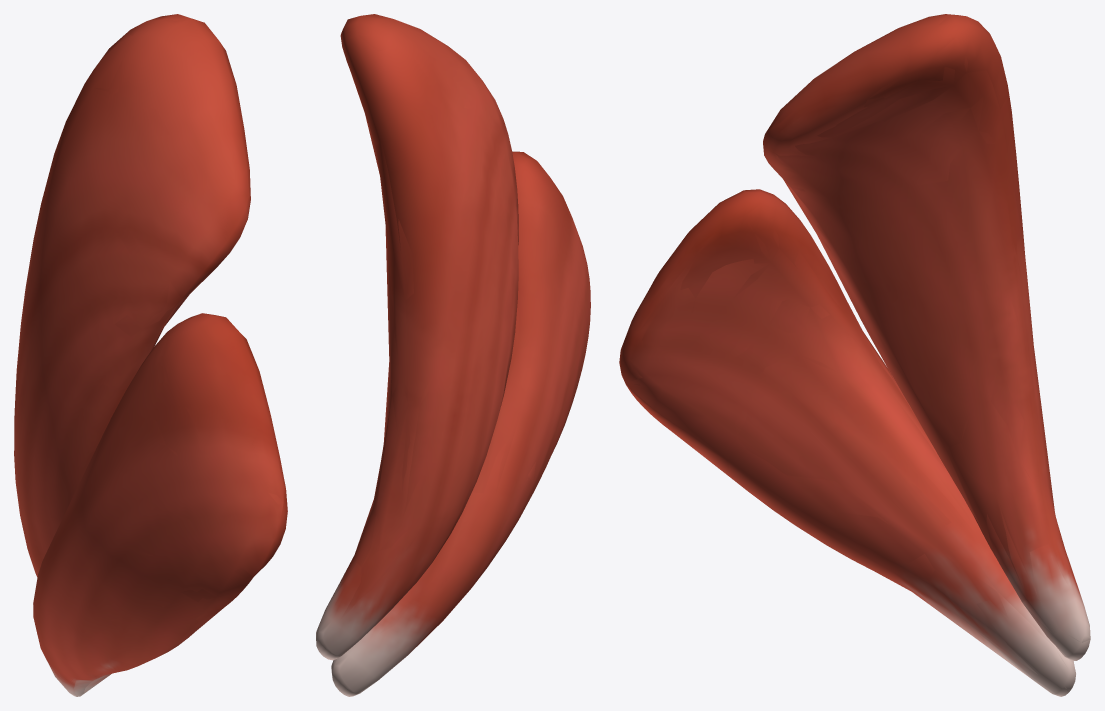
The model's file is R Triceps Brachii Long Head.fbx.
3 views of the same model, side by side, from view 1: azimuth 30°, elevation 25°; view 2: azimuth 150°, elevation 25°; view 3: azimuth 270°, elevation 25° (orthographic). The views are drawn at different scales.
Parts seen in each view (by area): view 1: R Triceps Brachii Long Head, R Triceps Brachii Long Head low; view 2: R Triceps Brachii Long Head, R Triceps Brachii Long Head low; view 3: R Triceps Brachii Long Head low, R Triceps Brachii Long Head.
Part boxes in pixels (x1,y1,x2,y2): R Triceps Brachii Long Head: (14,14,287,696); R Triceps Brachii Long Head low: (30,14,282,694); R Triceps Brachii Long Head: (316,14,590,696); R Triceps Brachii Long Head low: (330,16,590,663); R Triceps Brachii Long Head low: (621,15,1090,691); R Triceps Brachii Long Head: (619,14,1090,696).
Bounding box in the file's own units: 5.44 × 20.22 × 12.42.
